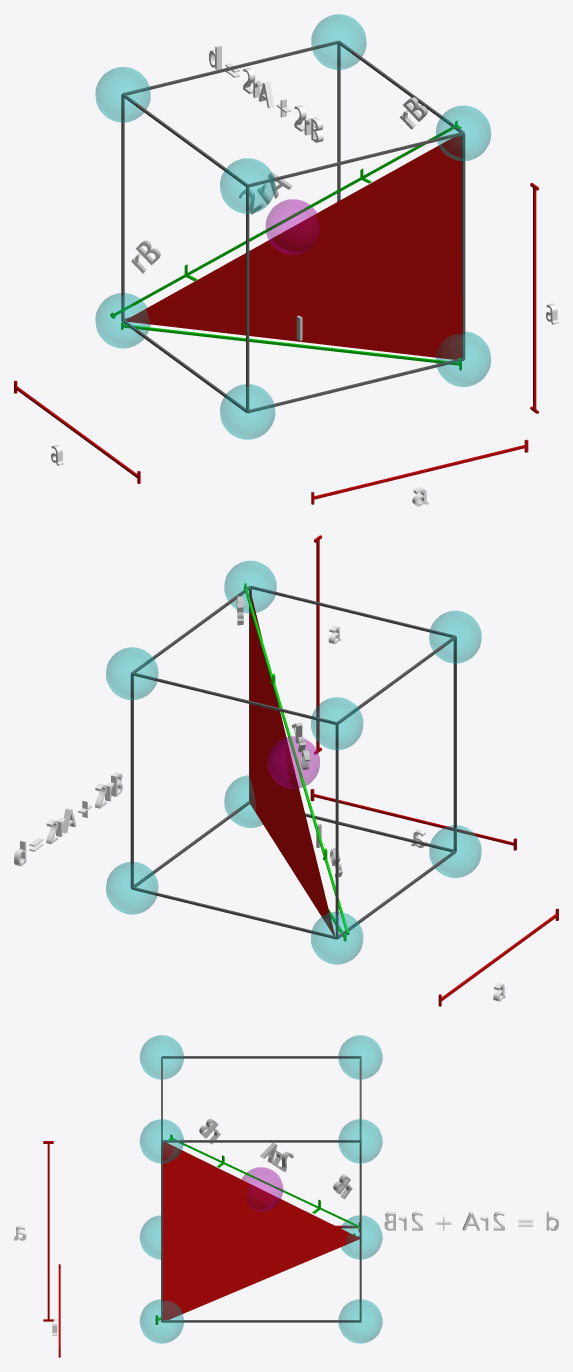
File: csclvolumen_centrado_celda.glb
3 views of the same model, one above another, from view 1: azimuth 30°, elevation 25°; view 2: azimuth 150°, elevation 25°; view 3: azimuth 270°, elevation 25° (orthographic). The views are drawn at different scales.
Visible parts, largest first — view 1: arista13; view 2: arista13; view 3: arista13.
Boxes of the visible parts, x1,y1,x2,y2 form: arista13: (14,14,558,506); arista13: (14,535,558,1006); arista13: (14,1035,558,1357).
Size of the model in its own units: 1.67 by 1.44 by 2.74.
